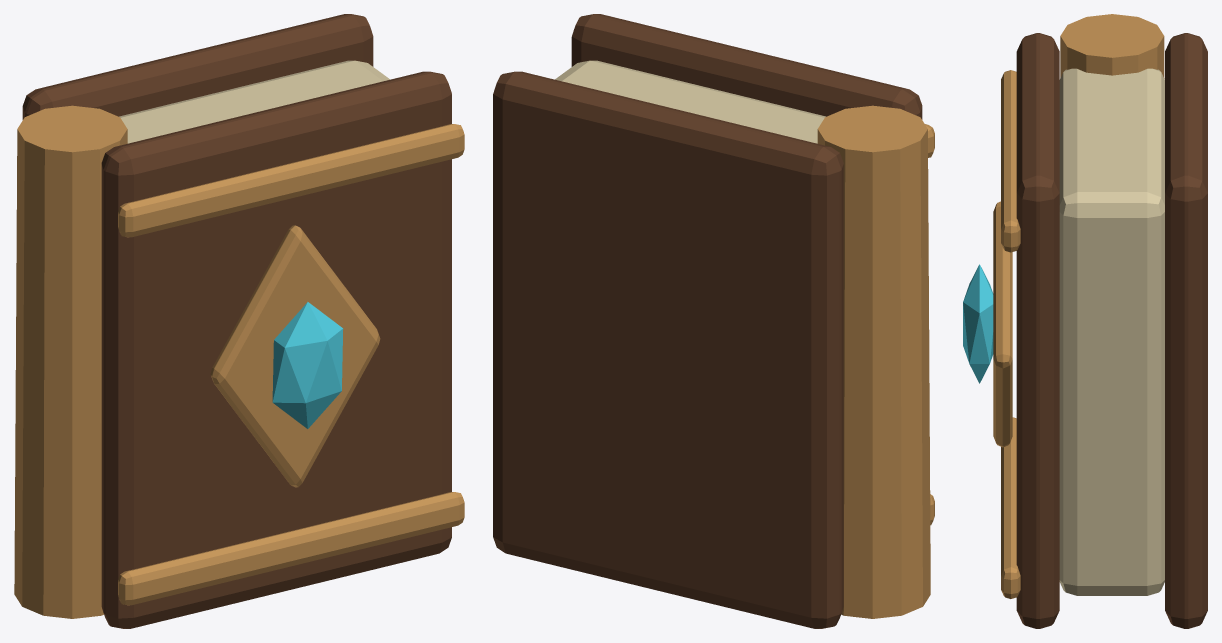
The model's file is Grimoire.fbx.
The picture shows the model from 3 angles, left to right: view 1: azimuth 30°, elevation 25°; view 2: azimuth 150°, elevation 25°; view 3: azimuth 270°, elevation 25°; orthographic projection. The views are drawn at different scales.
Visible parts, largest first — view 1: Arsenal_Grimoire; view 2: Arsenal_Grimoire; view 3: Arsenal_Grimoire.
Boxes of the visible parts, x1=… form: Arsenal_Grimoire: x1=14, y1=14, x2=464, y2=628; Arsenal_Grimoire: x1=493, y1=14, x2=934, y2=628; Arsenal_Grimoire: x1=963, y1=14, x2=1207, y2=628.
Bounding box in the file's own units: 54 × 64 × 31.38.
